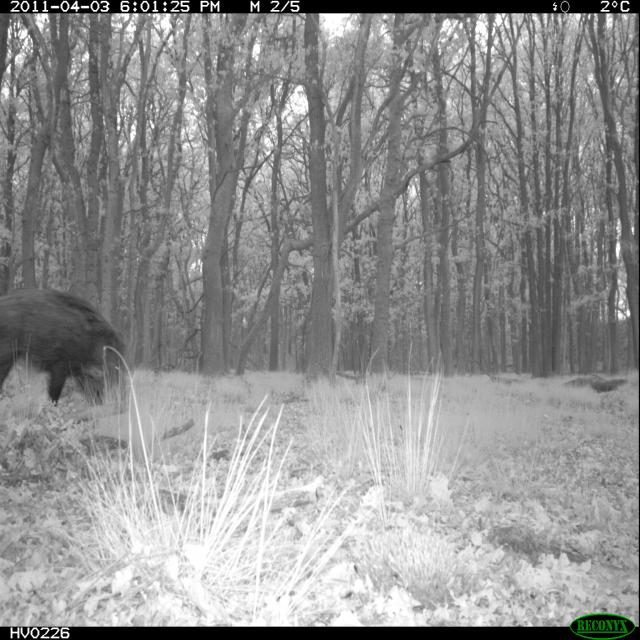boar: (0, 271, 136, 425)
